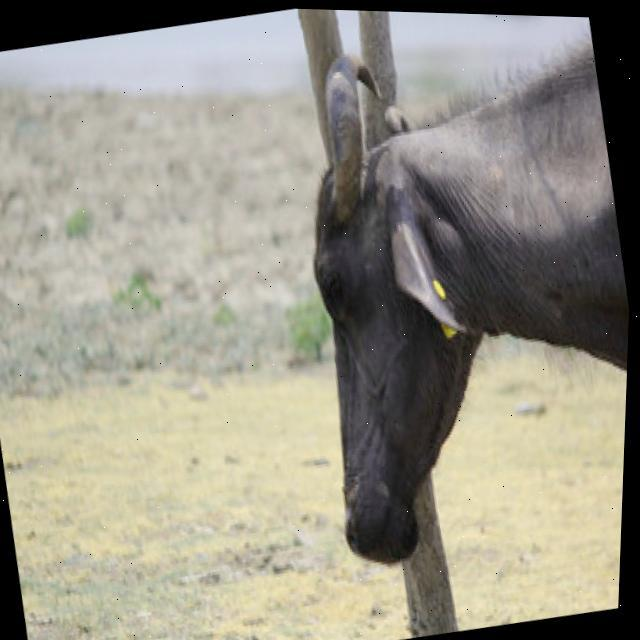Buffalo: (254, 8, 640, 579)
